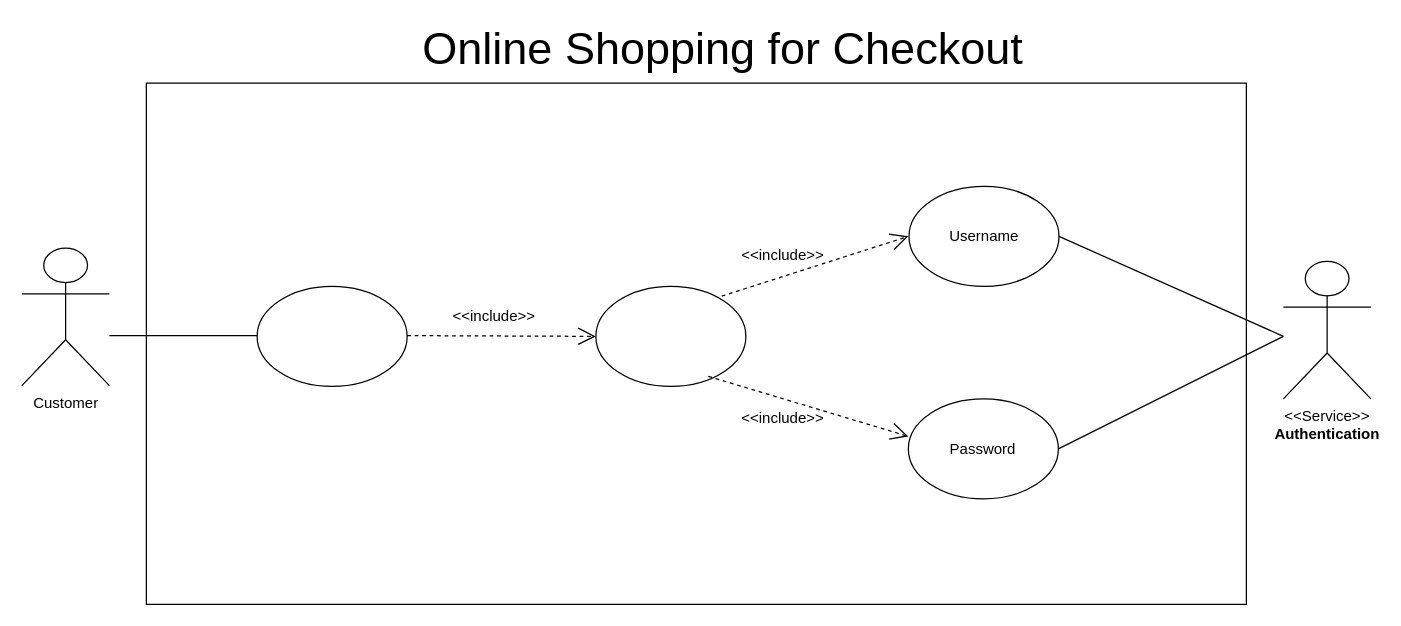
Some shapes in this 1401 by 626 pixel diagram are drawn without their labels. Here are the shapes that lost their labels. From the top down, the centre of each, then its label:
At (x=331, y=335): "Checkout".
At (x=670, y=335): "Sing-in".
